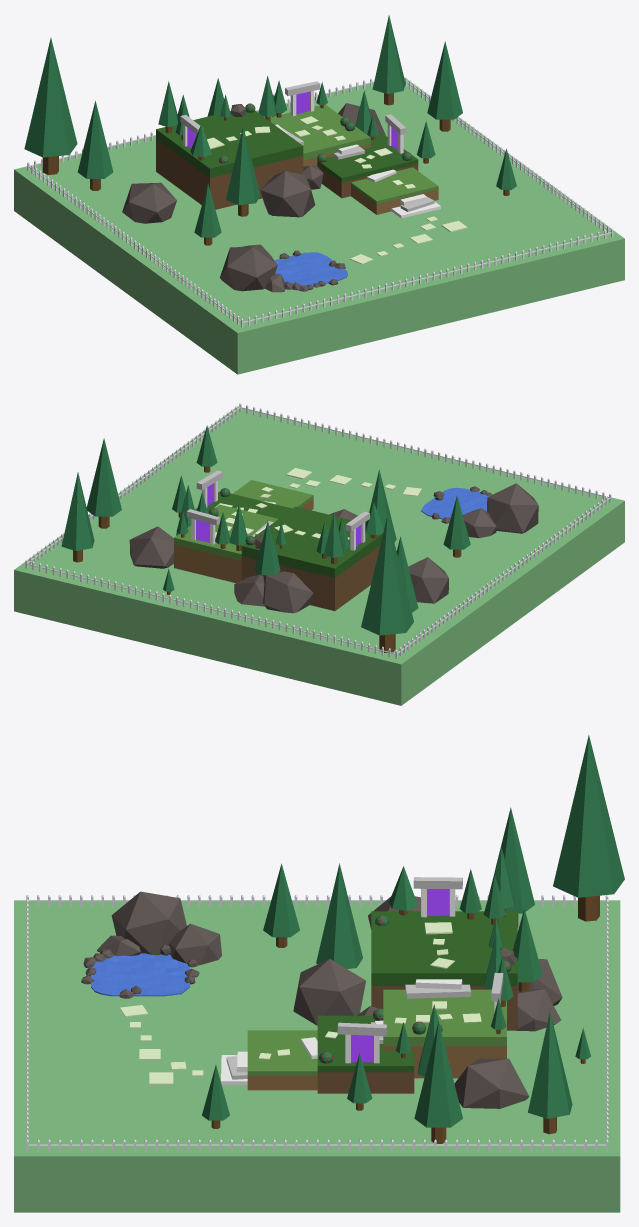
The model's file is environment.glb.
3 renders of one model, top to bottom at view 1: azimuth 30°, elevation 25°; view 2: azimuth 150°, elevation 25°; view 3: azimuth 270°, elevation 25°, orthographic. The views are drawn at different scales.
Visible parts, largest first — view 1: floor, terrain, trees.017, terrain.001, terrain.002, terrain.003, boulders.008, boulders.002, boulders.001, pond, trees.019, trees.008 (+5 smaller); view 2: floor, terrain, trees.017, terrain.001, boulders.008, trees.019, boulders.006, trees.012, boulders.004, boulders.001, terrain.003, pond (+10 smaller); view 3: floor, terrain, trees.017, terrain.001, terrain.002, terrain.003, pond, boulders.002, boulders.008, trees.019, boulders.004, trees.012 (+12 smaller).
Boxes of the visible parts, x1=… form: floor: x1=14, y1=77, x2=624, y2=374; terrain: x1=156, y1=110, x2=303, y2=209; trees.017: x1=24, y1=37, x2=77, y2=174; terrain.001: x1=270, y1=104, x2=370, y2=166; terrain.002: x1=317, y1=133, x2=418, y2=198; terrain.003: x1=351, y1=167, x2=438, y2=214; boulders.008: x1=220, y1=246, x2=277, y2=291; boulders.002: x1=260, y1=171, x2=315, y2=217; boulders.001: x1=122, y1=182, x2=176, y2=223; pond: x1=274, y1=252, x2=347, y2=286; trees.019: x1=427, y1=41, x2=462, y2=131; trees.008: x1=77, y1=100, x2=113, y2=190; floor: x1=14, y1=406, x2=624, y2=705; terrain: x1=241, y1=506, x2=384, y2=610; trees.017: x1=361, y1=515, x2=413, y2=652; terrain.001: x1=174, y1=504, x2=277, y2=582; boulders.008: x1=487, y1=483, x2=538, y2=533; trees.019: x1=86, y1=438, x2=121, y2=528; boulders.006: x1=263, y1=571, x2=313, y2=613; trees.012: x1=61, y1=472, x2=94, y2=562; boulders.004: x1=129, y1=526, x2=173, y2=568; boulders.001: x1=408, y1=557, x2=448, y2=603; terrain.003: x1=233, y1=480, x2=313, y2=510; pond: x1=421, y1=487, x2=489, y2=519; floor: x1=14, y1=900, x2=620, y2=1212; terrain: x1=371, y1=911, x2=517, y2=1030; trees.017: x1=553, y1=735, x2=624, y2=921; terrain.001: x1=383, y1=989, x2=506, y2=1078; terrain.002: x1=317, y1=1015, x2=414, y2=1093; terrain.003: x1=247, y1=1030, x2=317, y2=1090; pond: x1=91, y1=953, x2=189, y2=996; boulders.002: x1=293, y1=958, x2=365, y2=1025; boulders.008: x1=111, y1=891, x2=186, y2=955; trees.019: x1=414, y1=1021, x2=462, y2=1143; boulders.004: x1=454, y1=1058, x2=529, y2=1108; trees.012: x1=528, y1=1011, x2=572, y2=1134.
Size of what is drawn, in the model's own units: 38.91 by 16.92 by 39.21.
